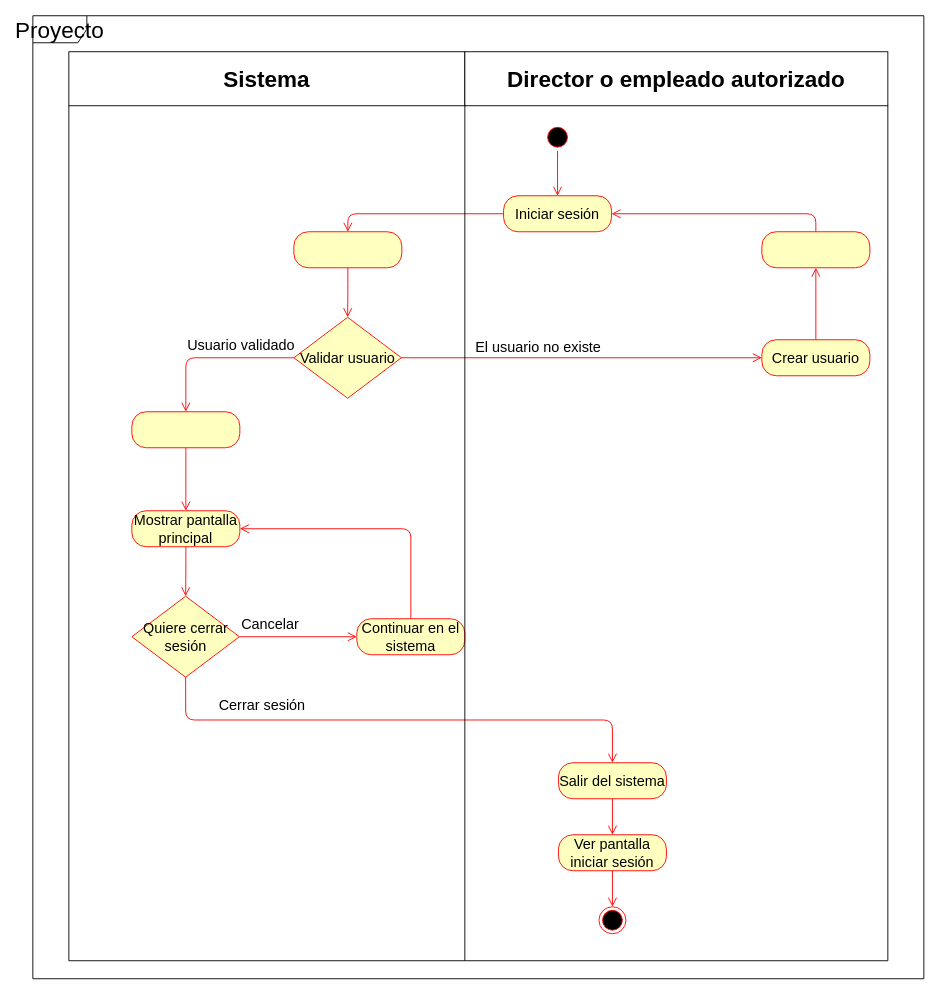
Image size: 940x995. Some labels were removed from this diagram. Here are the shapes that lost their labels. From the top down, the box of each, then its label:
(293, 231, 402, 268): Ingresar datos
(761, 231, 870, 268): Registrarse
(131, 411, 240, 448): Ingresar al sistema
